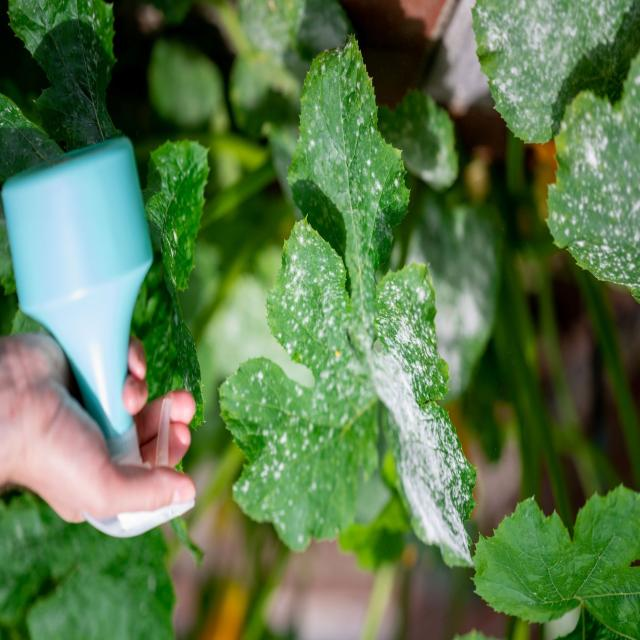Powdery Mildew: (251, 50, 478, 549)
